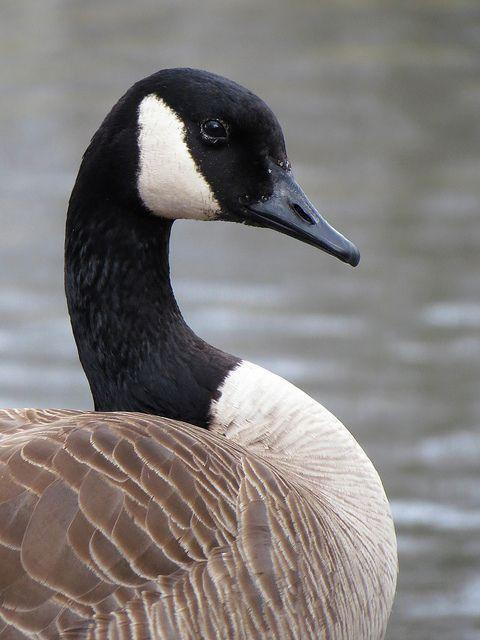Canadian-Goose: (4, 65, 400, 640)
